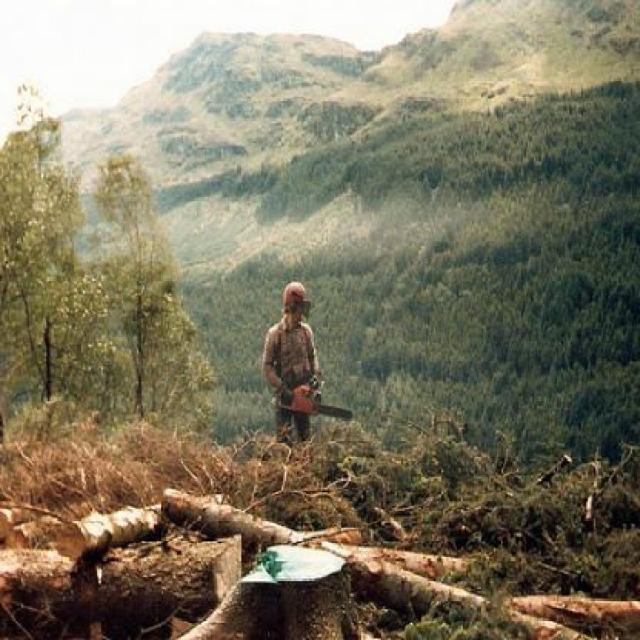Chainsaw: (272, 374, 354, 423)
